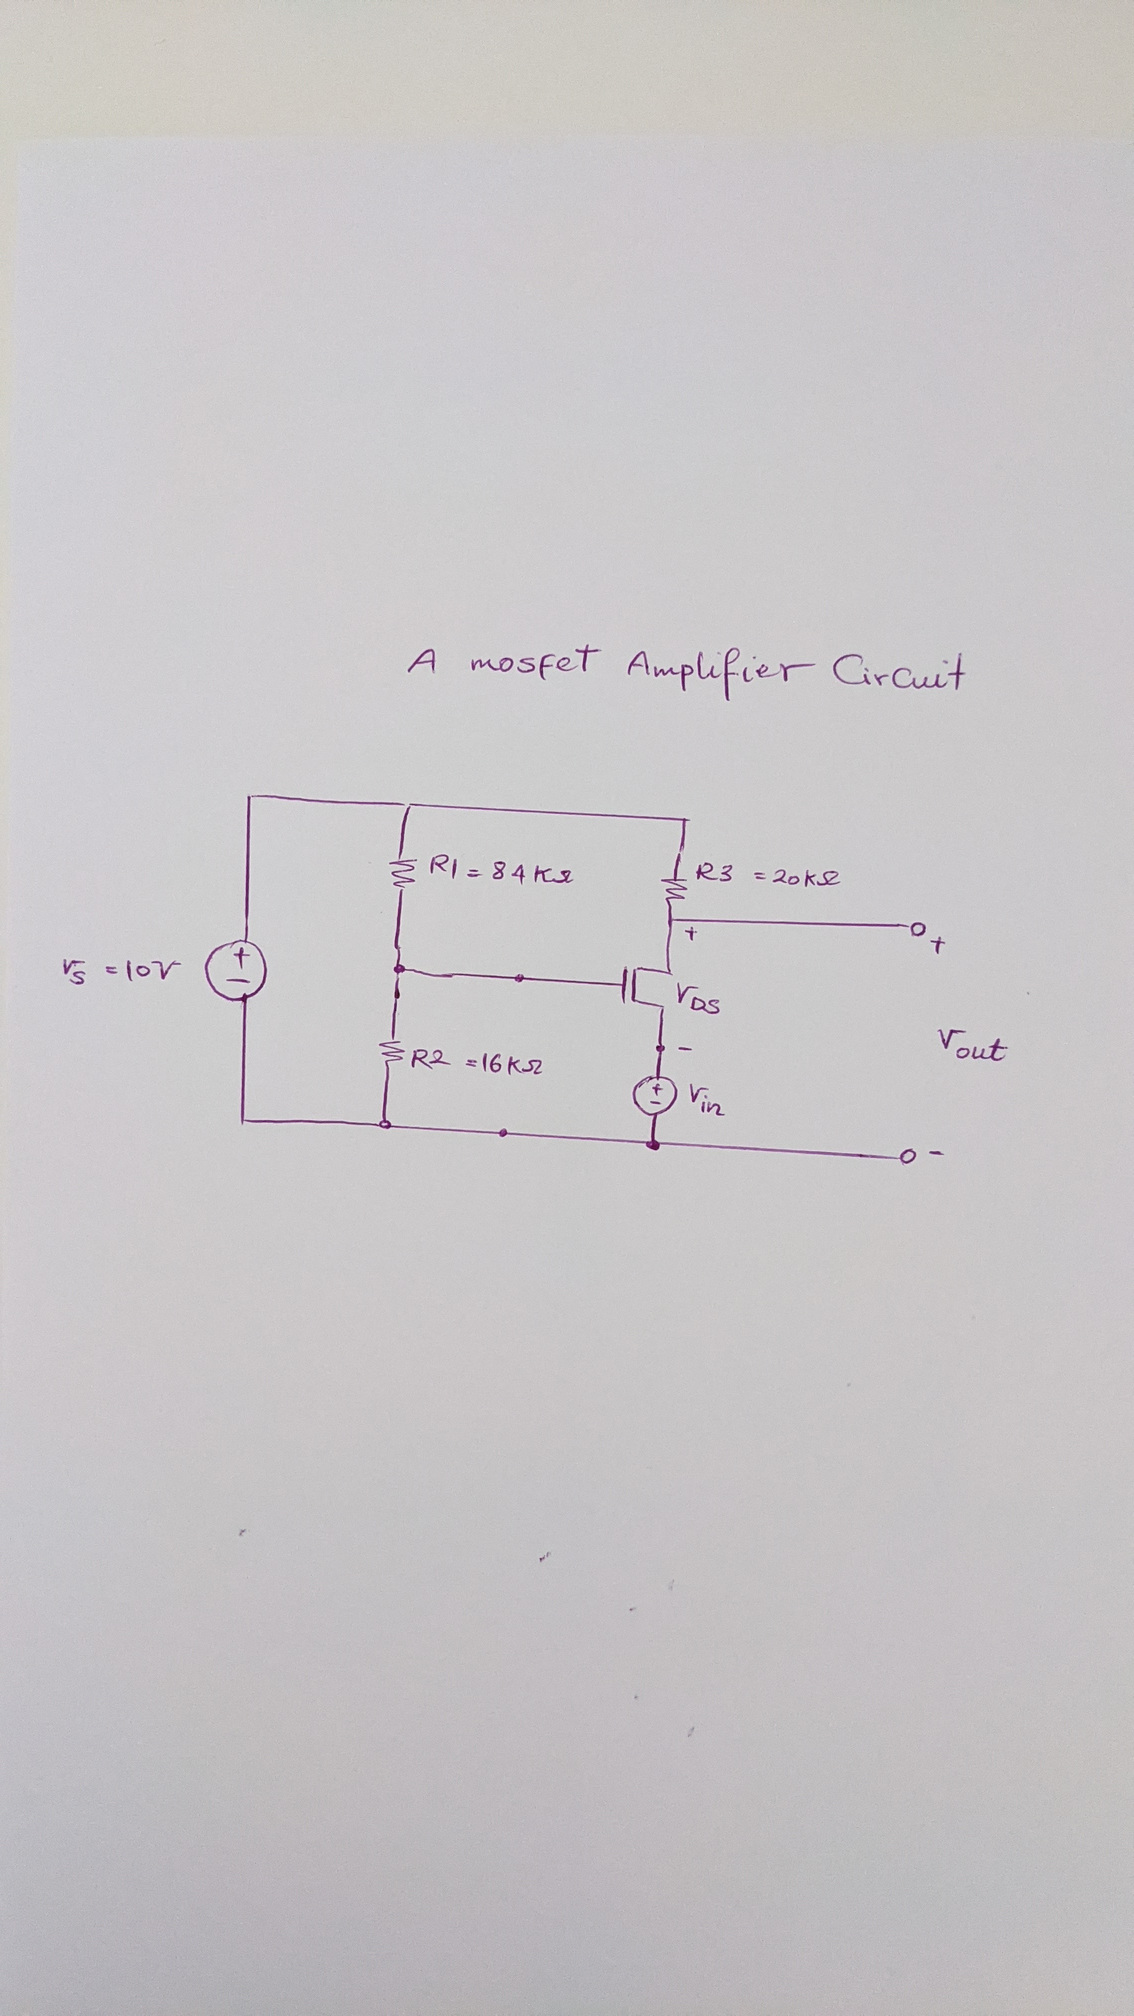junction: (392, 960, 410, 980), (642, 1137, 662, 1153), (375, 1117, 395, 1133), (237, 1115, 252, 1128), (400, 799, 415, 811), (244, 791, 256, 800), (680, 816, 692, 825), (665, 915, 676, 925)
resistor: (388, 853, 420, 892), (377, 1036, 406, 1072), (659, 875, 690, 908)
terminal: (894, 1146, 919, 1167), (906, 919, 928, 937)
text: (404, 640, 968, 705), (426, 852, 575, 888), (694, 858, 842, 888), (60, 955, 184, 987), (408, 1047, 544, 1076), (935, 1025, 1009, 1065), (676, 980, 721, 1016), (687, 1081, 728, 1119), (929, 935, 948, 955), (683, 925, 701, 943), (926, 1146, 948, 1160), (676, 1043, 696, 1056)
transistor: (619, 964, 674, 1012)
voltage.dc: (202, 936, 269, 1002), (631, 1074, 678, 1117)
